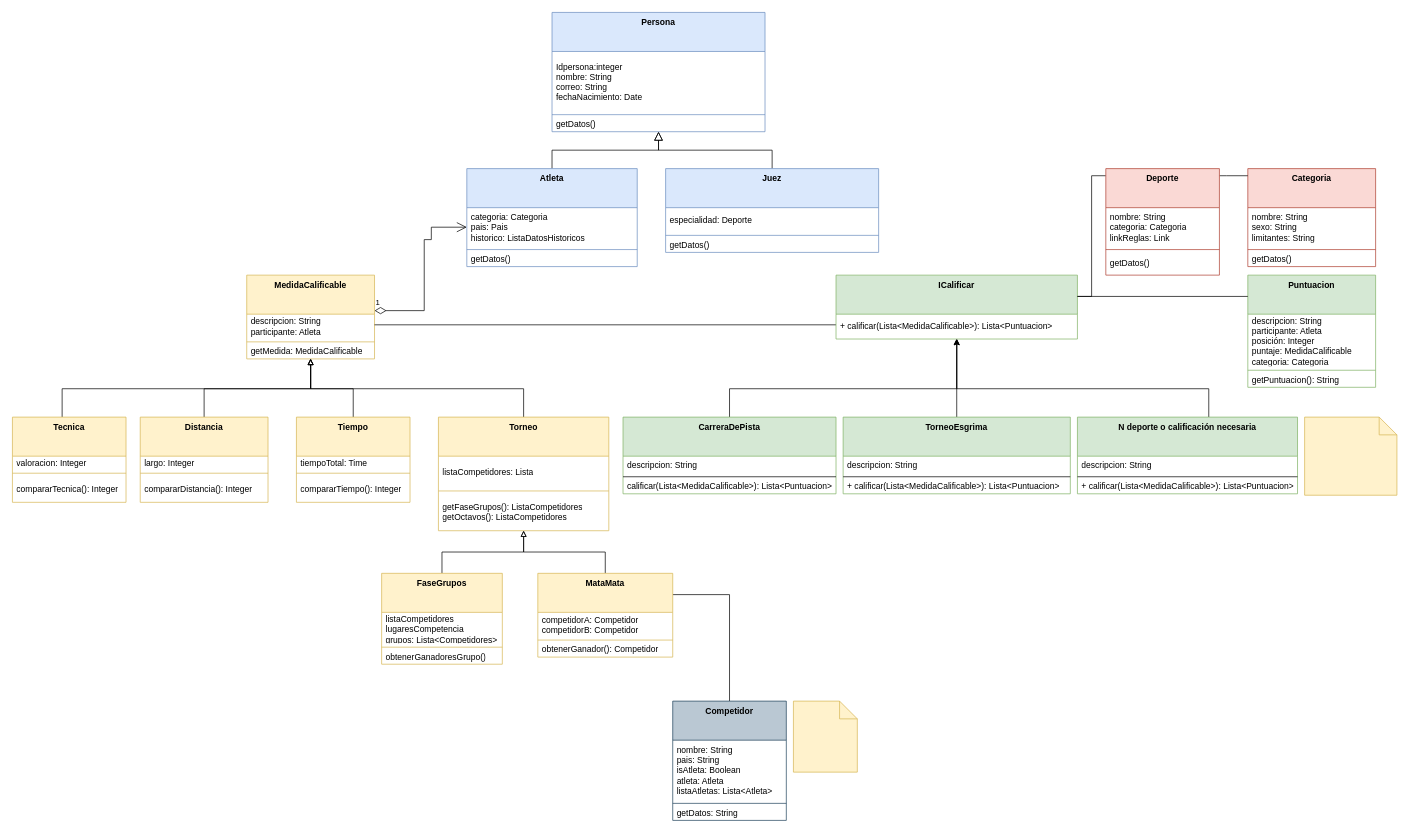
Some shapes in this 1409 by 833 pixel diagram are drawn without their labels. The centre of each missing label's shape, as x and y in pixels:
1 clase hereda por cada deporte e implementa su propio metodo calificar: (x=1350, y=455)
Puede ser un atleta, o un equipo: (x=825, y=736)
